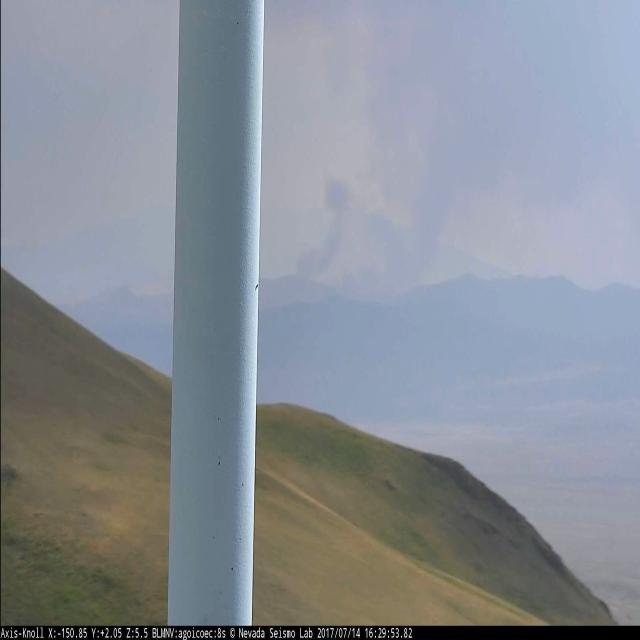smoke: (299, 0, 538, 282)
